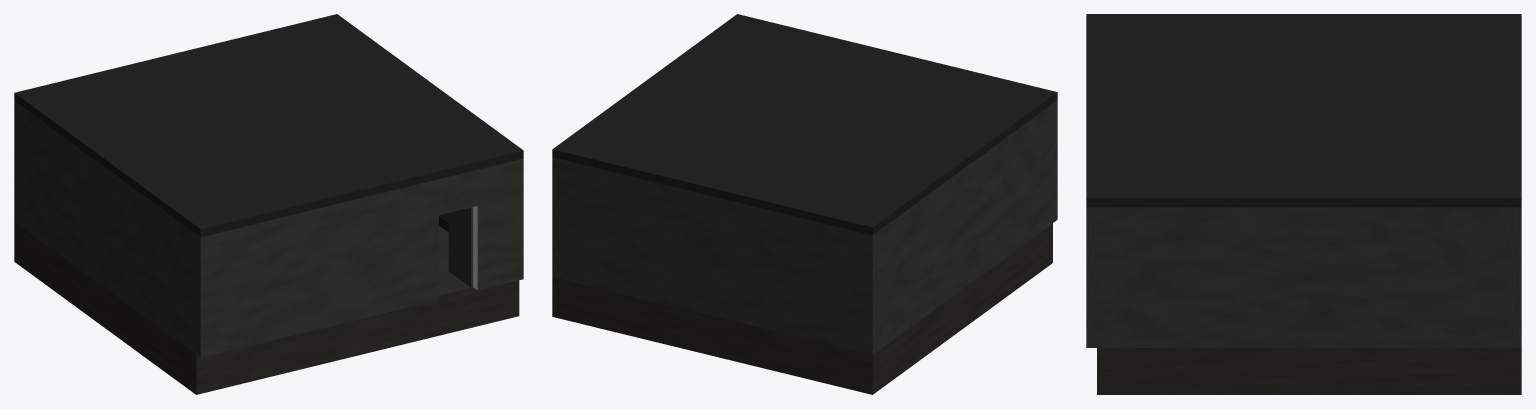
The model's file is sala1.glb.
3 renders of one model, left to right at view 1: azimuth 30°, elevation 25°; view 2: azimuth 150°, elevation 25°; view 3: azimuth 270°, elevation 25°, orthographic. The views are drawn at different scales.
Parts seen in each view (by area): view 1: Techo, ParedFrente, ParedIzquierda, CSGBox3D, Puerta, ParedFondo; view 2: Techo, ParedFondo, ParedIzquierda, CSGBox3D, ParedFrente; view 3: Techo, ParedDerecha, CSGBox3D, ParedFondo, ParedFrente.
Boxes of the visible parts, x1=… form: Techo: x1=14, y1=14, x2=523, y2=236; ParedFrente: x1=196, y1=158, x2=523, y2=357; ParedIzquierda: x1=18, y1=104, x2=196, y2=354; CSGBox3D: x1=14, y1=222, x2=519, y2=394; Puerta: x1=448, y1=207, x2=472, y2=287; ParedFondo: x1=14, y1=101, x2=18, y2=224; Techo: x1=552, y1=14, x2=1057, y2=235; ParedFondo: x1=552, y1=157, x2=876, y2=354; ParedIzquierda: x1=877, y1=103, x2=1052, y2=351; CSGBox3D: x1=552, y1=223, x2=1052, y2=394; ParedFrente: x1=1053, y1=100, x2=1057, y2=222; Techo: x1=1086, y1=14, x2=1521, y2=207; ParedDerecha: x1=1097, y1=207, x2=1510, y2=347; CSGBox3D: x1=1097, y1=348, x2=1521, y2=394; ParedFondo: x1=1511, y1=207, x2=1521, y2=347; ParedFrente: x1=1086, y1=207, x2=1096, y2=347.
Size of the model in its own units: 8.4 by 4.2 by 8.4.
Materials: 33 (9 with a texture image).
